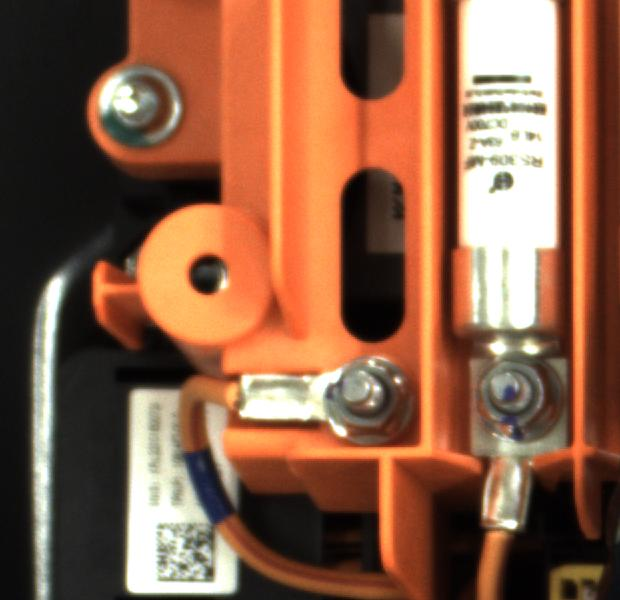screw_m: (82, 61, 213, 165)
screw_s: (474, 354, 575, 447), (317, 352, 414, 445)
